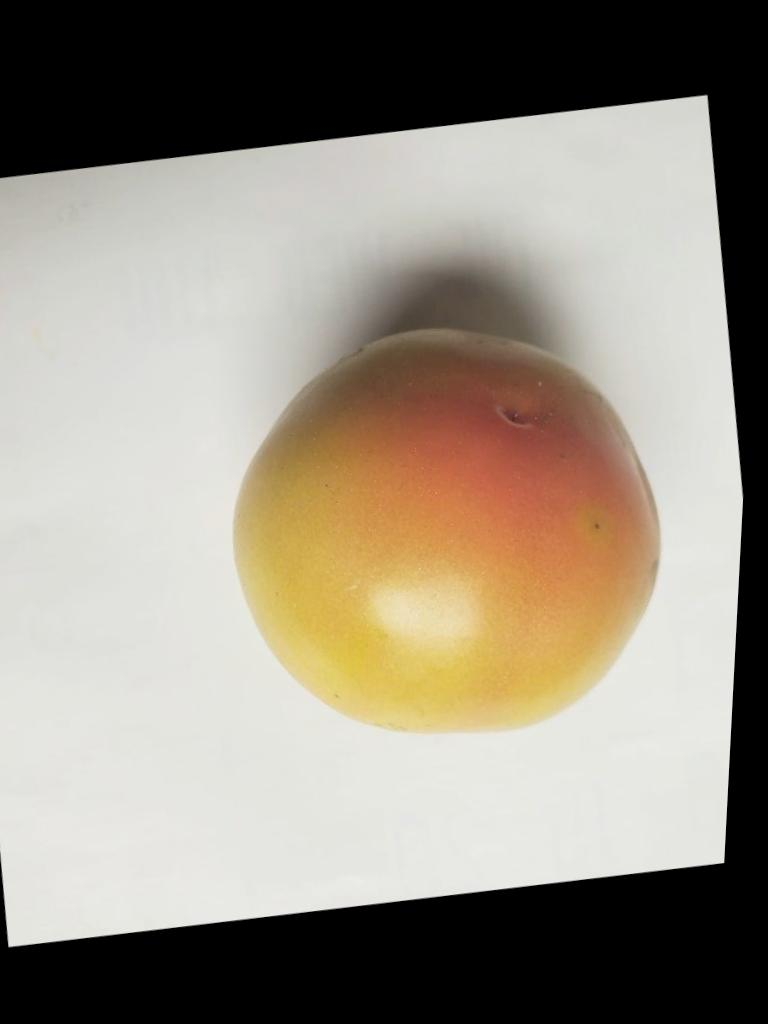tomato: (234, 327, 659, 731)
